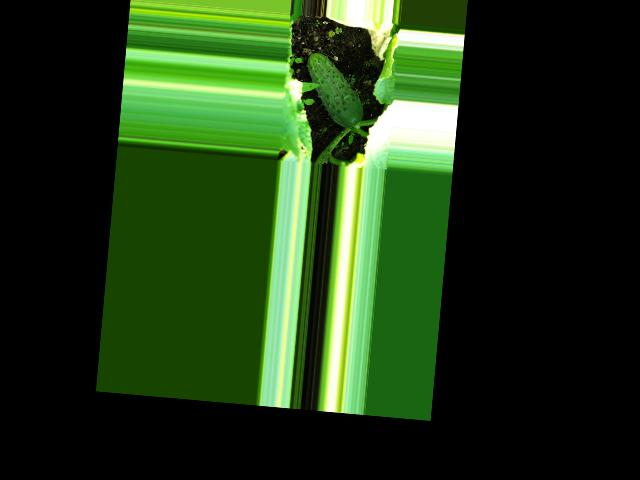cucumber: (301, 52, 368, 129)
